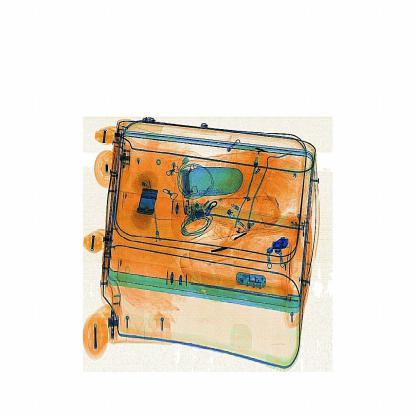knife: (263, 229, 300, 263)
